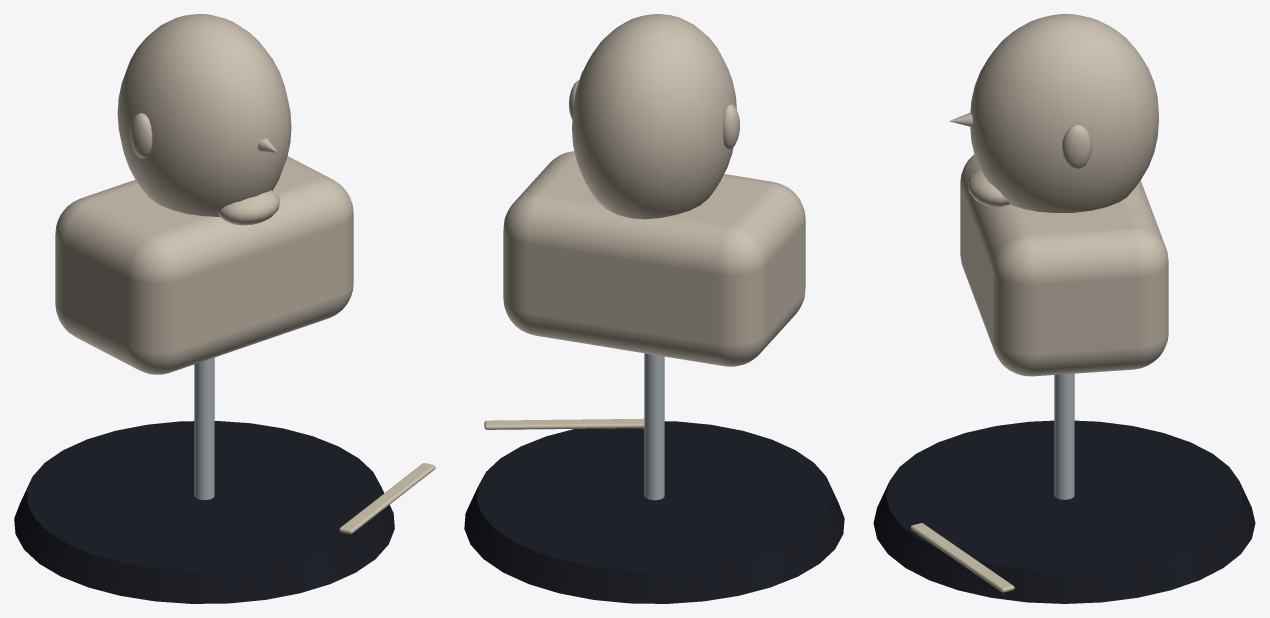
The model's file is atelier-artist-sculpture-chalk.glb.
The picture shows the model from 3 angles, left to right: view 1: azimuth 30°, elevation 25°; view 2: azimuth 150°, elevation 25°; view 3: azimuth 270°, elevation 25°; orthographic projection.
Bounding box in the file's own units: 0.3321 × 0.4362 × 0.3.
